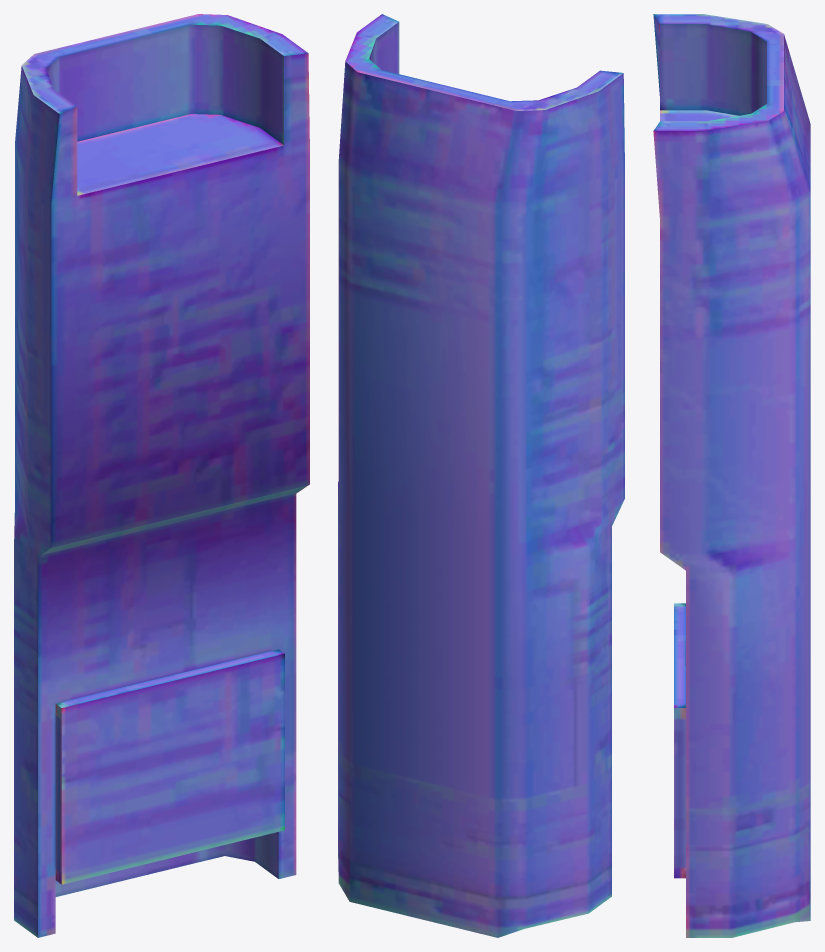
File: debris_01_04.glb
3 renders of one model, left to right at view 1: azimuth 30°, elevation 25°; view 2: azimuth 150°, elevation 25°; view 3: azimuth 270°, elevation 25°, orthographic. The views are drawn at different scales.
Visible parts, largest first — view 1: debris_01_04; view 2: debris_01_04; view 3: debris_01_04.
Part boxes in pixels (x1,y1,x2,y2): debris_01_04: [14, 14, 309, 937]; debris_01_04: [338, 14, 624, 937]; debris_01_04: [653, 14, 810, 937].
Bounding box in the file's own units: 0.6302 × 1.97 × 0.3446.
Materials: 1 (1 with a texture image).
